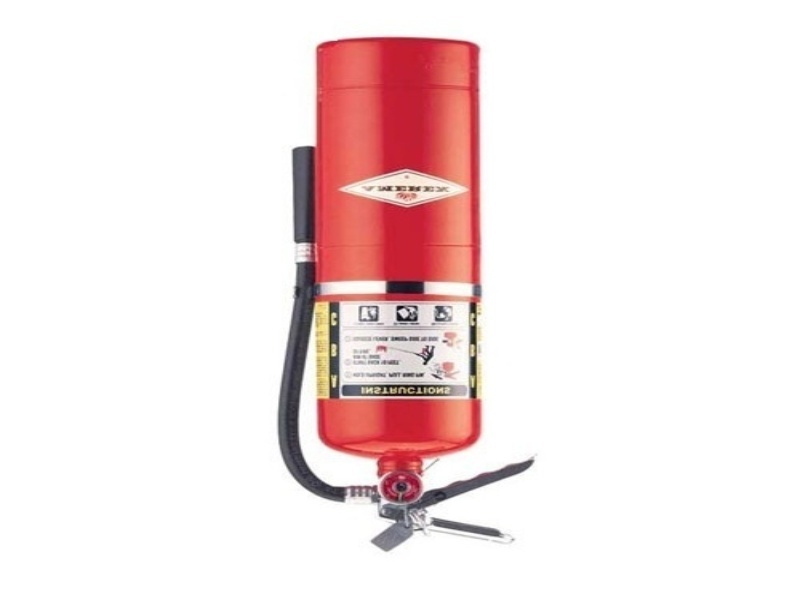fire_extinguisher: (267, 15, 538, 556)
